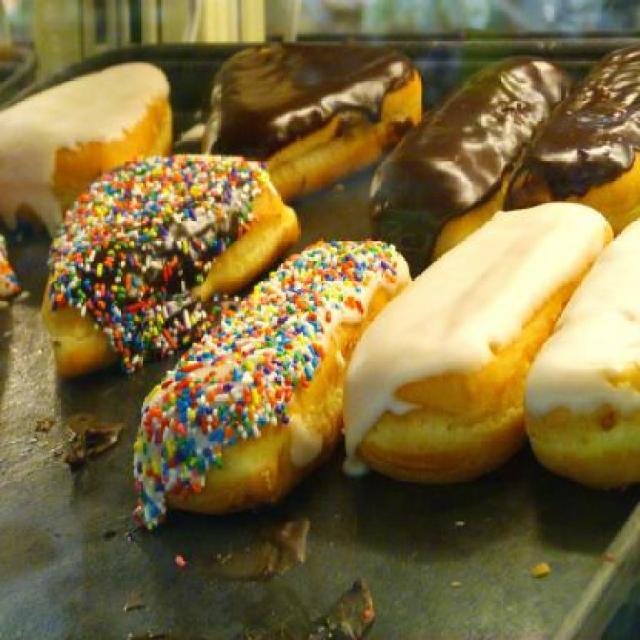Candy: (132, 235, 396, 533), (45, 149, 293, 360)
